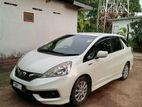car: (10, 33, 133, 107)
